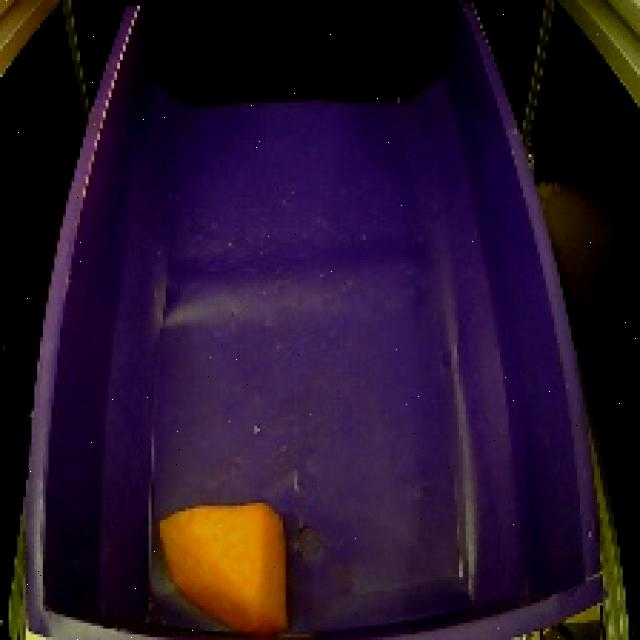carrots: (148, 491, 301, 640)
